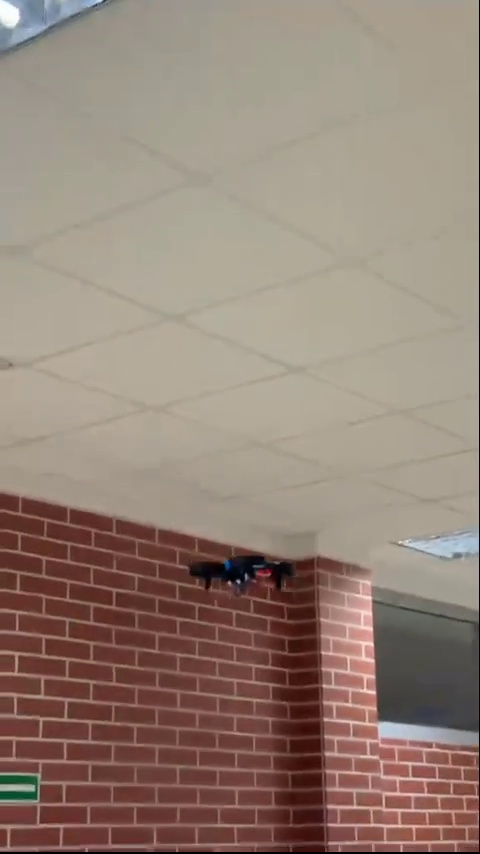drone: (187, 552, 295, 600)
